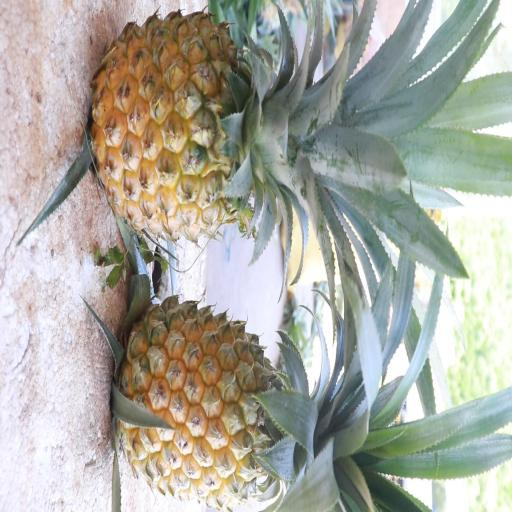Pineapple - v8 v1: (87, 6, 324, 250), (111, 289, 356, 511)
